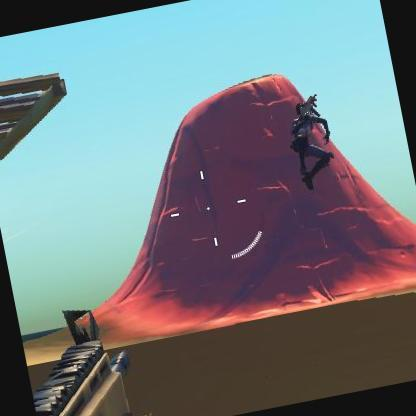person: (280, 102, 328, 196)
